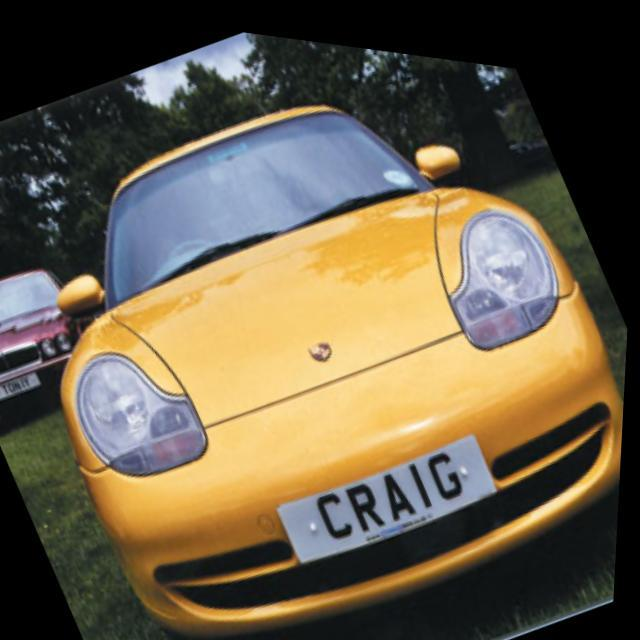license_plate: (278, 395, 512, 582)
